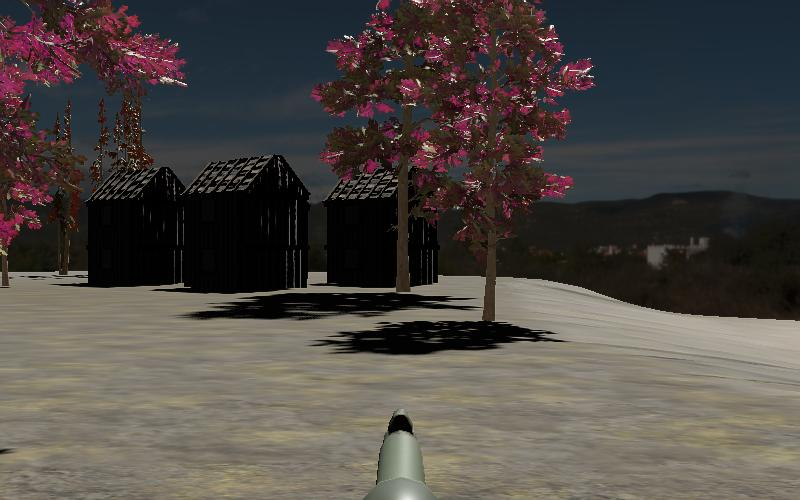House: (180, 154, 312, 291), (322, 168, 443, 290), (84, 163, 185, 287)
